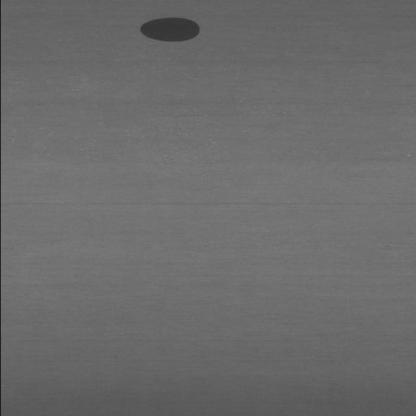oil_spot: (125, 13, 218, 45)
